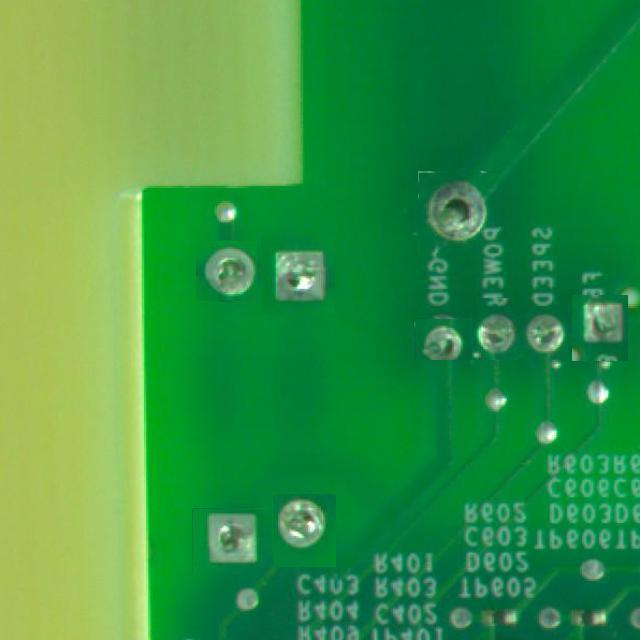lack_of_part: (418, 172, 499, 254), (260, 234, 335, 315), (192, 508, 268, 572), (272, 493, 336, 567), (571, 294, 628, 361), (195, 241, 257, 301), (472, 298, 518, 360), (414, 318, 474, 360), (524, 305, 569, 358)
